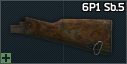AKM wooden stock 6P1 Sb.5: (0, 0, 127, 64)
